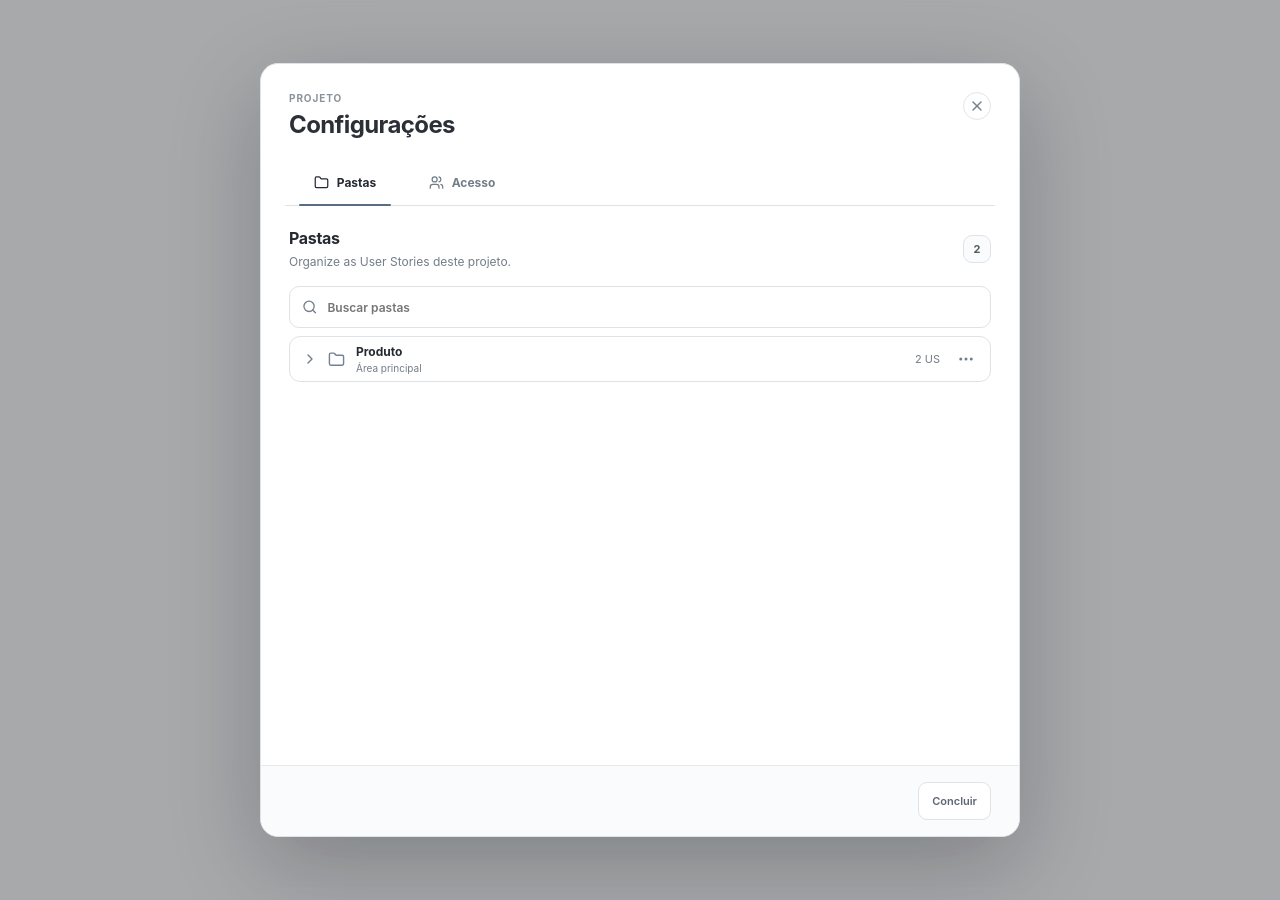
Scenario: workspace settings › keeps Manager access requests scoped to the selected project
Click the tab with id "settings-tab-access" at (462, 182), box x1=406 y1=159 x2=518 y2=205
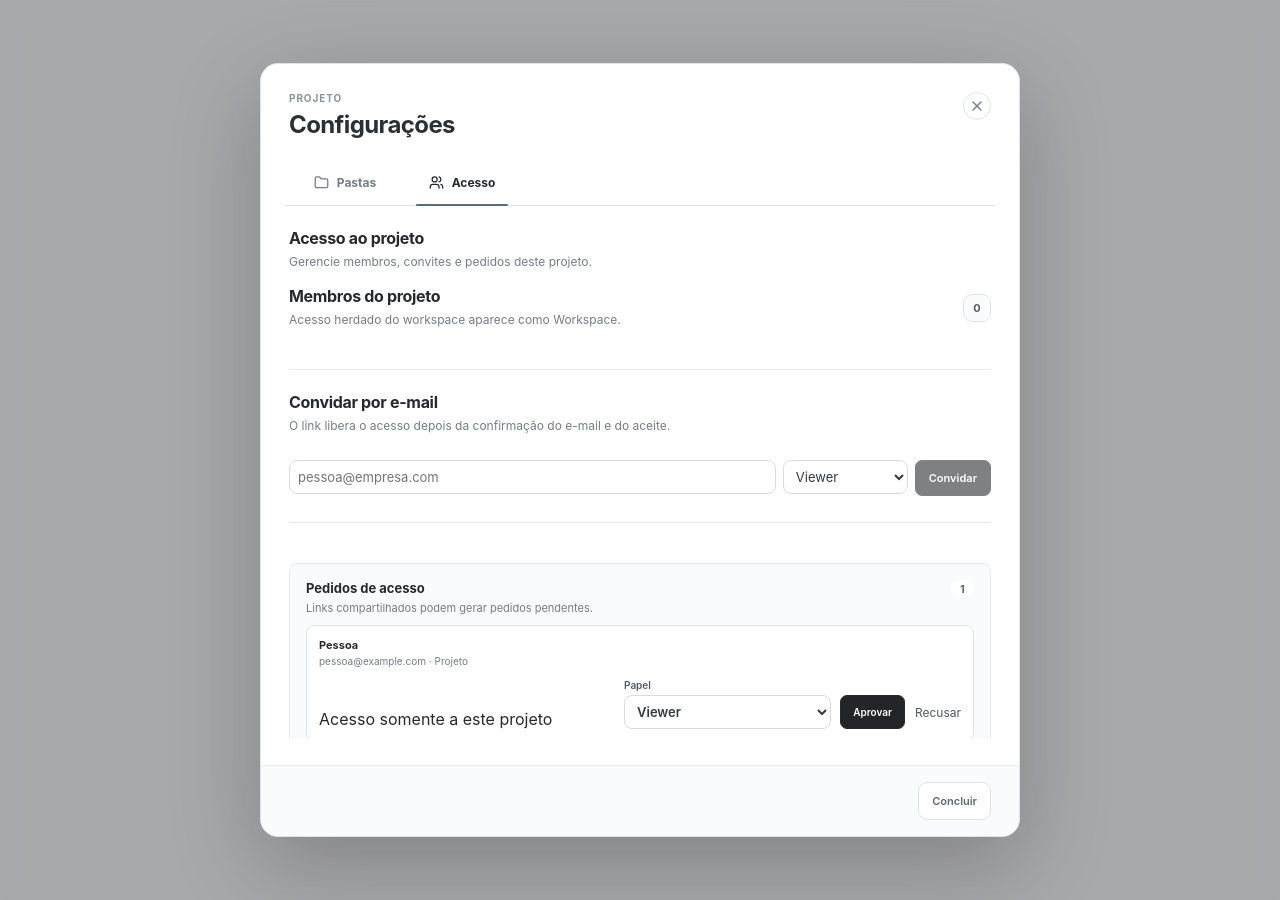
Now the text with class "access-request-project-scope" reads "Acesso somente a este projeto", box x1=319 y1=709 x2=552 y2=729
